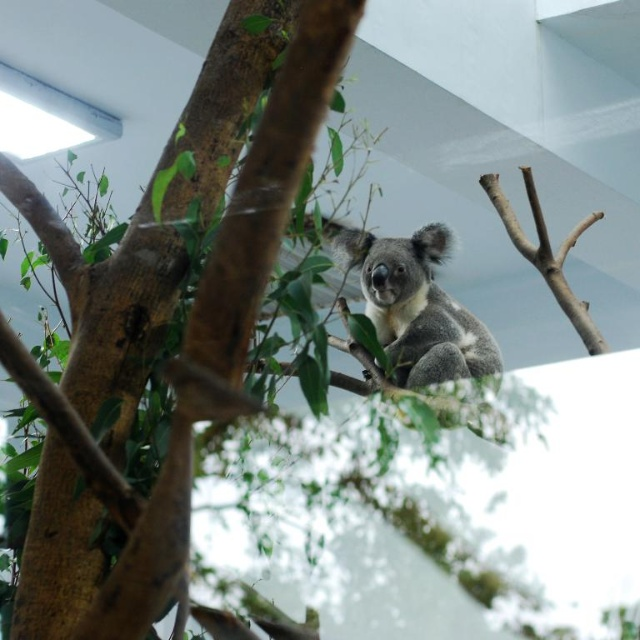Koala: (330, 219, 504, 429)
